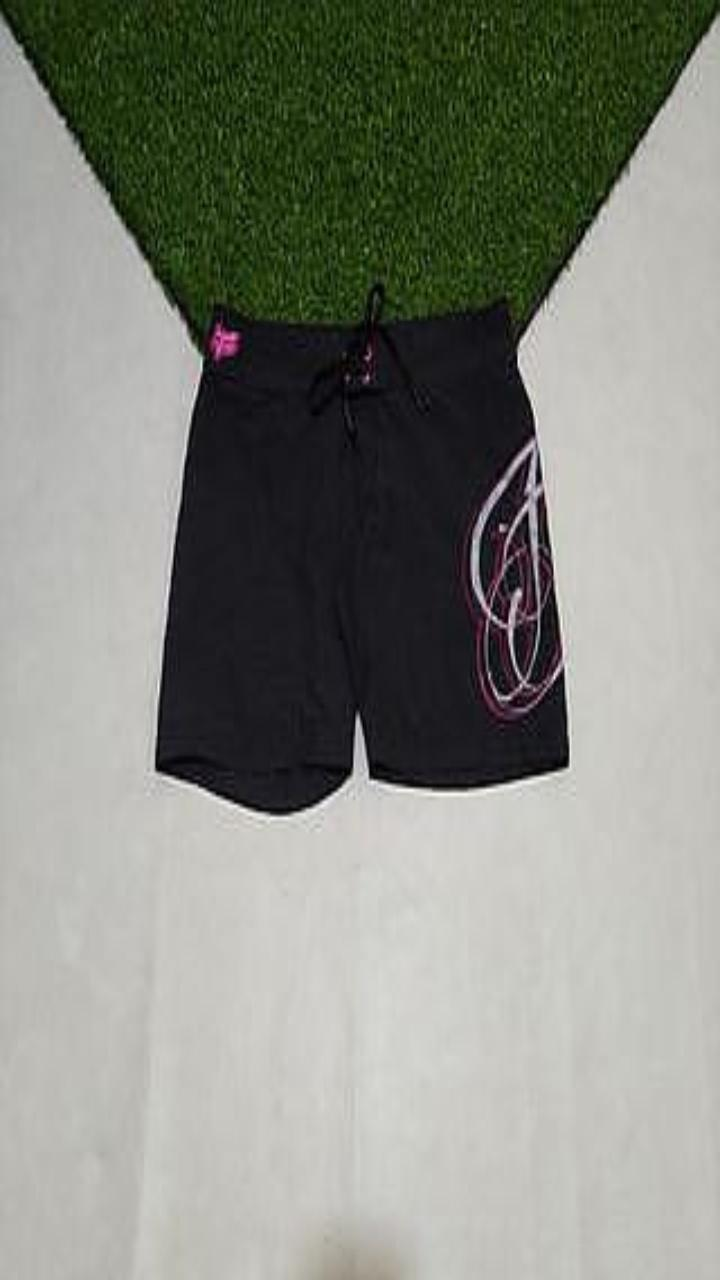Shorts: (156, 285, 568, 812)
